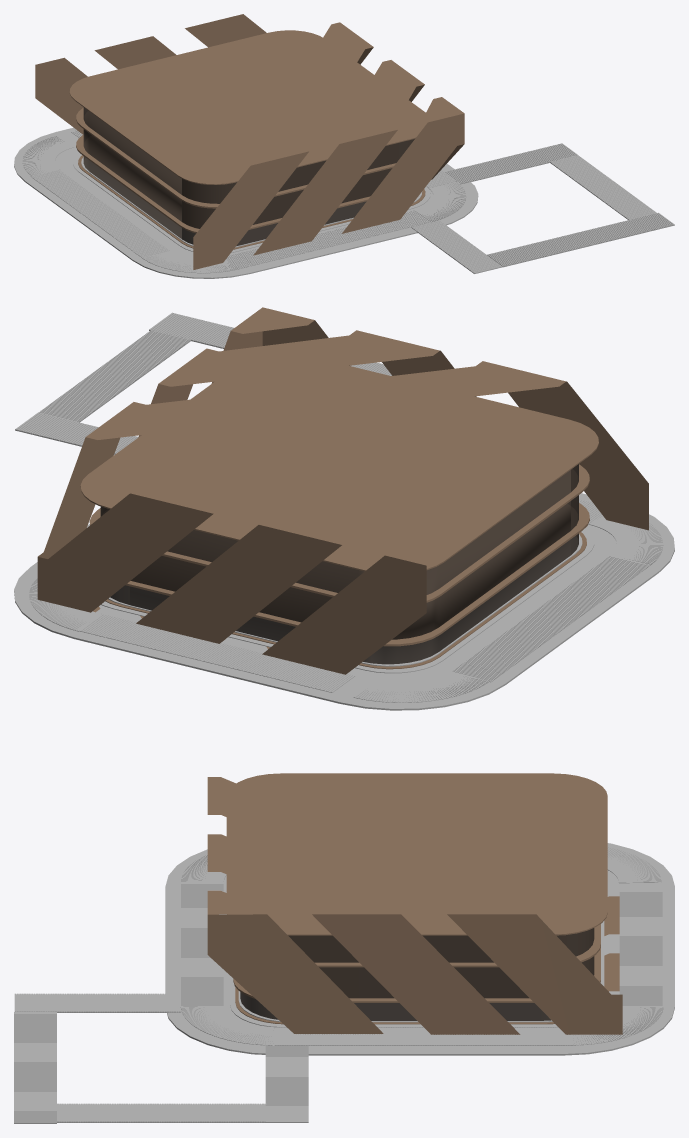
The model's file is Exterior.fbx.
The picture shows the model from 3 angles, top to bottom: view 1: azimuth 30°, elevation 25°; view 2: azimuth 150°, elevation 25°; view 3: azimuth 270°, elevation 25°; orthographic projection. The views are drawn at different scales.
Parts seen in each view (by area): view 1: Roof_A, Panels3, Panels4, CircleTable, SquareTable, Floor, Panels1, Structures_Glass, Structures_Glass_B, FloorWoods1, FloorWoods, Floor1 (+2 smaller); view 2: Roof_A, Panels1, Panels4, Structures_Glass_B, CircleTable, Floor, Panels3, SquareTable, Panels2, FloorWoods, FloorWoods1, Floor1 (+3 smaller); view 3: Roof_A, Panels2, CircleTable, Panels4, SquareTable, Floor, Structures_Glass, Panels5, Floor1, FloorWoods1, FloorWoods.
Boxes of the visible parts, x1,y1,x2,y2 form: Roof_A: [69, 30, 427, 184]; Panels3: [193, 113, 464, 269]; Panels4: [246, 22, 464, 165]; CircleTable: [22, 130, 466, 273]; SquareTable: [411, 143, 674, 273]; Floor: [14, 127, 478, 278]; Panels1: [35, 14, 266, 134]; Structures_Glass: [182, 139, 414, 246]; Structures_Glass_B: [83, 107, 181, 238]; FloorWoods1: [76, 108, 395, 208]; FloorWoods: [76, 135, 370, 233]; Floor1: [73, 153, 430, 252]; Roof_A: [80, 366, 598, 571]; Panels1: [37, 493, 426, 674]; Panels4: [86, 307, 565, 439]; Structures_Glass_B: [130, 470, 570, 664]; CircleTable: [29, 499, 663, 702]; Floor: [14, 493, 674, 710]; Panels3: [262, 320, 648, 530]; SquareTable: [15, 312, 391, 454]; Panels2: [38, 331, 262, 558]; FloorWoods: [125, 503, 589, 646]; FloorWoods1: [89, 464, 589, 602]; Floor1: [101, 529, 594, 673]; Roof_A: [226, 773, 607, 935]; Panels2: [207, 914, 622, 1034]; CircleTable: [180, 847, 663, 1045]; Panels4: [207, 777, 536, 914]; SquareTable: [14, 993, 308, 1123]; Floor: [165, 843, 674, 1055]; Structures_Glass: [240, 928, 594, 1020]; Panels5: [604, 896, 619, 991]; Floor1: [230, 921, 604, 1027]; FloorWoods1: [314, 924, 600, 967]; FloorWoods: [233, 946, 600, 1002].
Bounding box in the file's own units: 7071 × 1431 × 6936.
